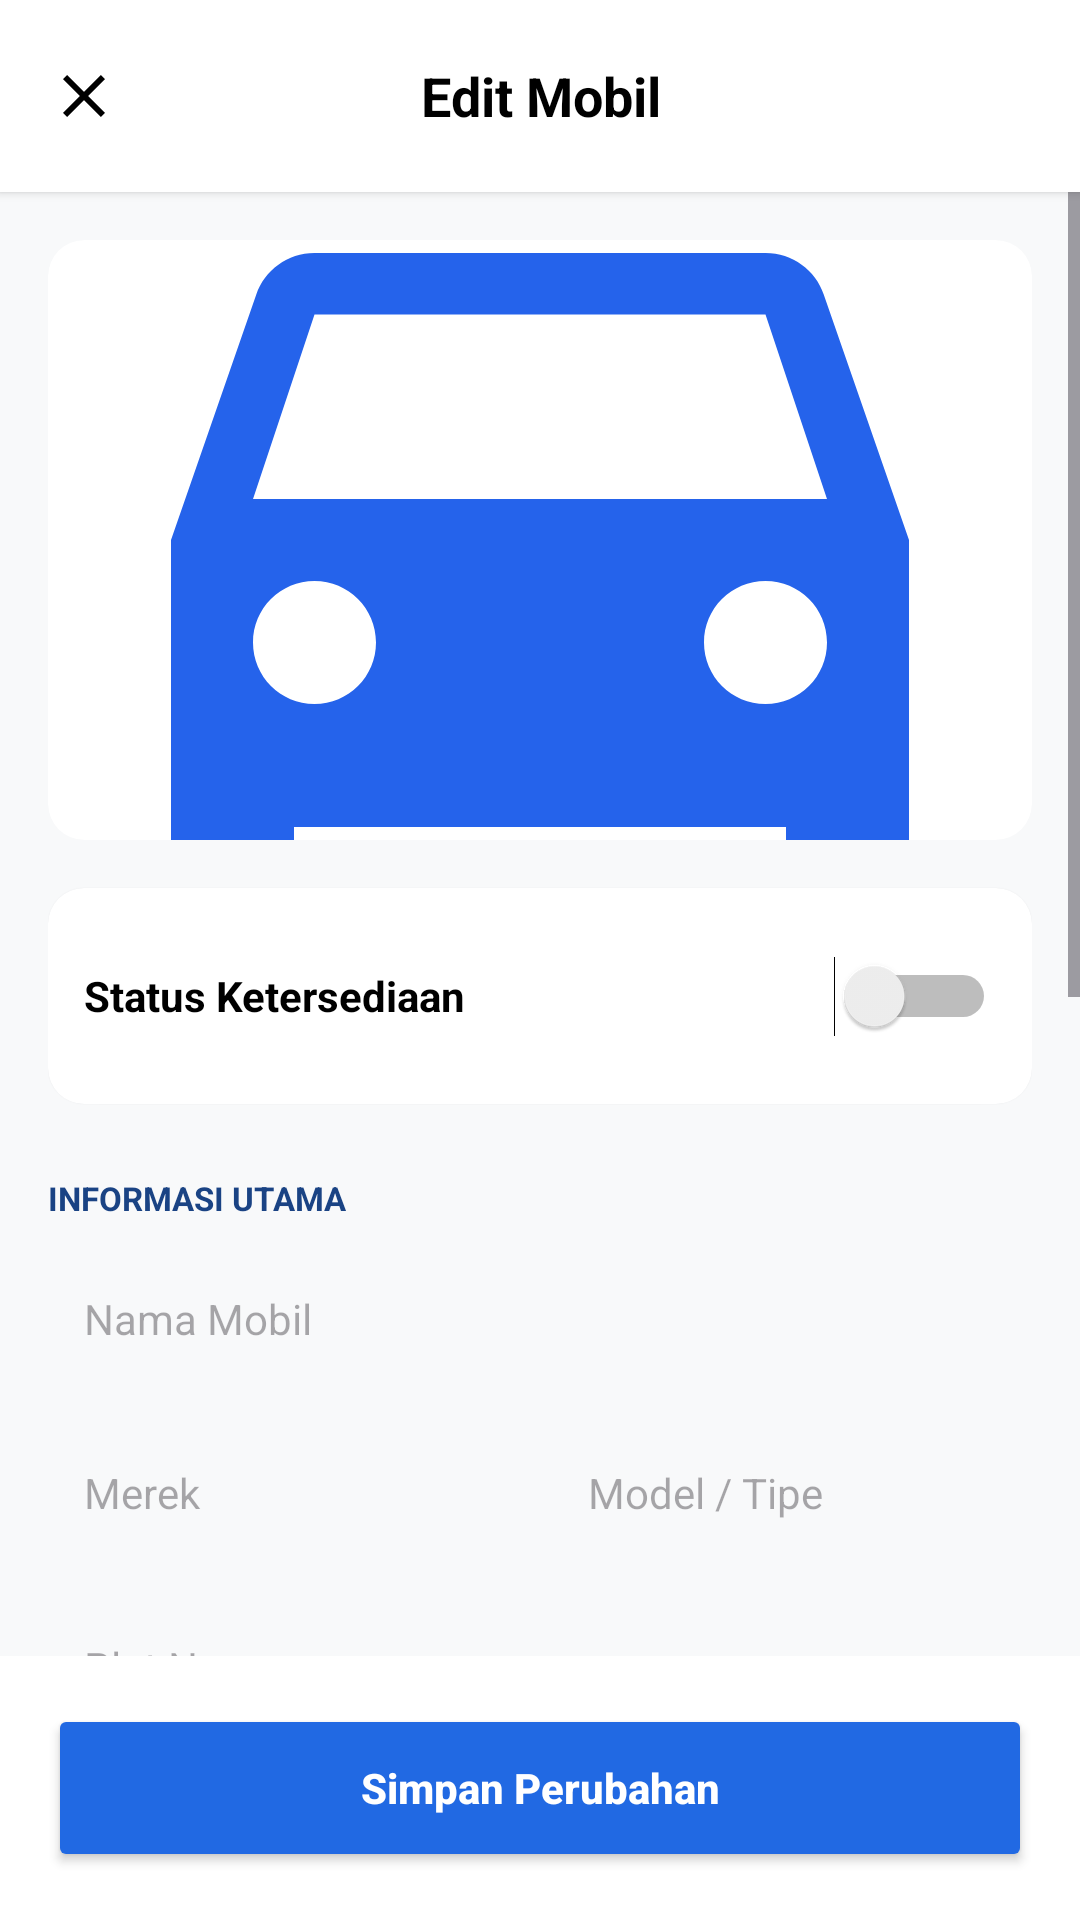

Point at icon controls on the screen. Image size 1080w x 1920h, points as point (x, y).
close: point (84, 96)
